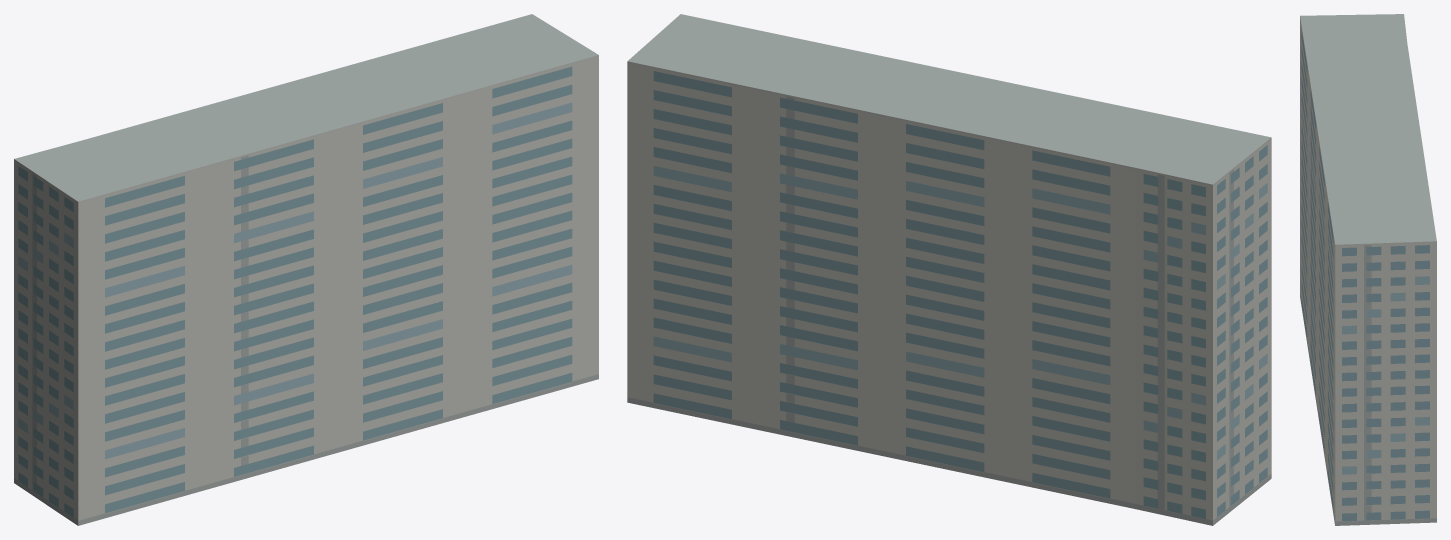
Rendered from residential-f028d97c-0890-4ac6-8b9f-2457697afaea.glb.
3 renders of one model, left to right at view 1: azimuth 30°, elevation 25°; view 2: azimuth 150°, elevation 25°; view 3: azimuth 270°, elevation 25°, orthographic. The views are drawn at different scales.
Visible parts, largest first — view 1: residential-f028d97c-0890-4ac6-8b9f-2457697afaea.tmp; view 2: residential-f028d97c-0890-4ac6-8b9f-2457697afaea.tmp; view 3: residential-f028d97c-0890-4ac6-8b9f-2457697afaea.tmp.
Boxes of the visible parts, x1=… form: residential-f028d97c-0890-4ac6-8b9f-2457697afaea.tmp: x1=14, y1=14, x2=598, y2=525; residential-f028d97c-0890-4ac6-8b9f-2457697afaea.tmp: x1=627, y1=14, x2=1271, y2=525; residential-f028d97c-0890-4ac6-8b9f-2457697afaea.tmp: x1=1300, y1=14, x2=1436, y2=525.
Size of the model in its own units: 84.48 by 48 by 21.18.
